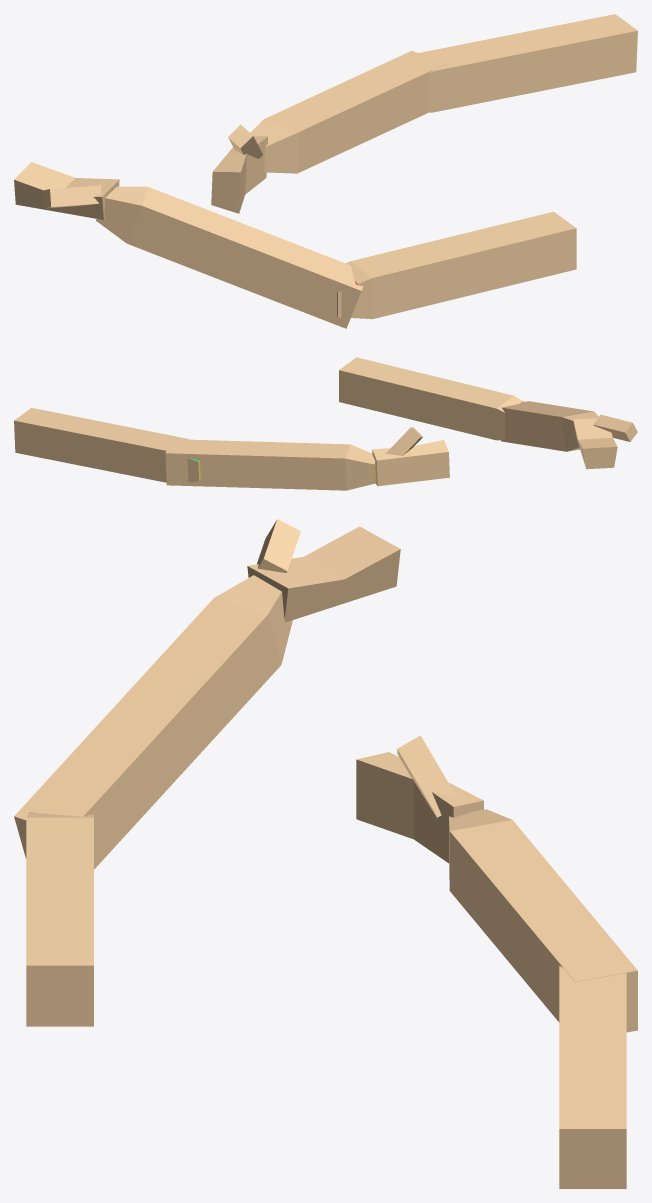
File: Hands.gltf
3 views of the same model, one above another, from view 1: azimuth 30°, elevation 25°; view 2: azimuth 150°, elevation 25°; view 3: azimuth 270°, elevation 25° (orthographic). The views are drawn at different scales.
Parts seen in each view (by area): view 1: L-Hand, R-Hand, Palm (×2), Finger (×2); view 2: R-Hand, L-Hand, Palm (×2), Finger (×2); view 3: L-Hand, R-Hand, Palm (×2), Finger (×2).
Boxes of the visible parts, x1,y1,x2,y2 form: L-Hand: [96, 186, 576, 328]; R-Hand: [250, 14, 637, 173]; Palm (×2): [14, 136, 267, 219]; Finger (×2): [43, 124, 262, 208]; R-Hand: [14, 408, 376, 490]; L-Hand: [339, 357, 598, 451]; Palm (×2): [372, 418, 617, 486]; Finger (×2): [385, 414, 637, 455]; L-Hand: [14, 575, 292, 1026]; R-Hand: [449, 809, 637, 1188]; Palm (×2): [247, 526, 483, 863]; Finger (×2): [257, 519, 455, 818].
Bounding box in the file's own units: 1.1 × 0.1976 × 0.5782.
1 material, 1 textured.
